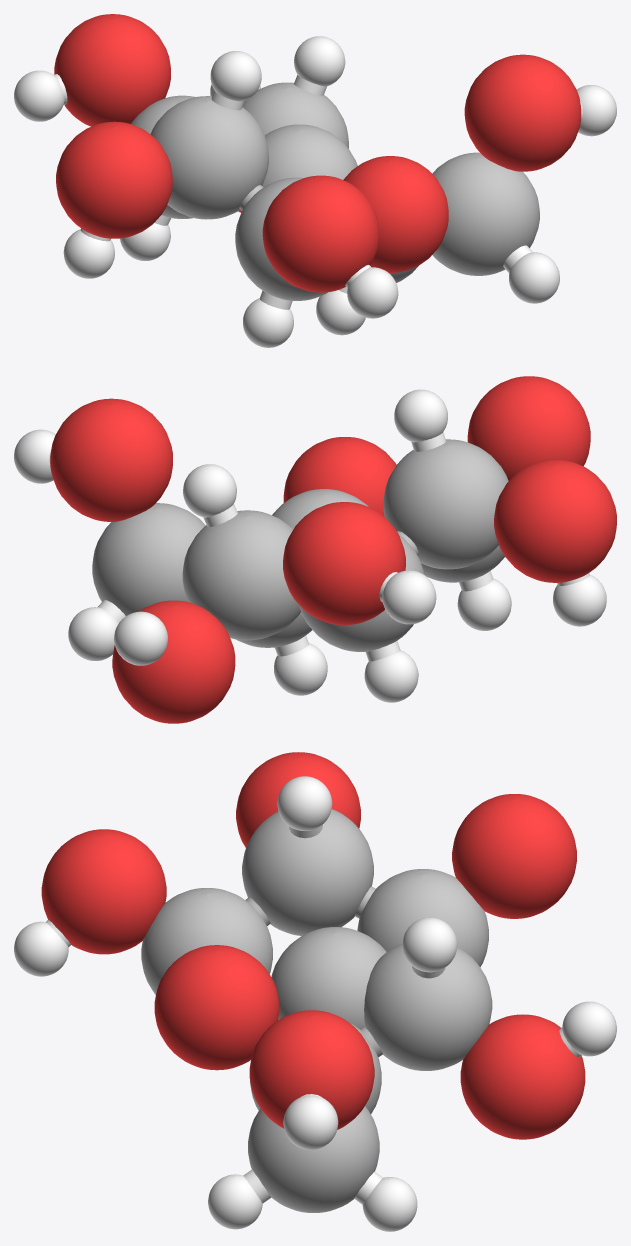
The model's file is glucose.fbx.
3 renders of one model, top to bottom at view 1: azimuth 30°, elevation 25°; view 2: azimuth 150°, elevation 25°; view 3: azimuth 270°, elevation 25°, orthographic. The views are drawn at different scales.
Visible parts, largest first — view 1: Oxygen_mesh|Oxygen_ball|Dupli|5, Oxygen_mesh|Oxygen_ball|Dupli|2, Oxygen_mesh|Oxygen_ball|Dupli|0.4, Oxygen_mesh|Oxygen_ball|Dupli|0.3, Carbon_mesh|Carbon_ball|Dupli|5, Carbon_mesh|Carbon_ball|Dupli|0.3, Oxygen_mesh|Oxygen_ball|Dupli|, Oxygen_mesh|Oxygen_ball|Dupli|3, Carbon_mesh|Carbon_ball|Dupli|3, Carbon_mesh|Carbon_ball|Dupli|0.5, Oxygen_mesh|Oxygen_ball|Dupli|4, Carbon_ball (+15 smaller); view 2: Oxygen_mesh|Oxygen_ball|Dupli|5, Carbon_mesh|Carbon_ball|Dupli|, Oxygen_mesh|Oxygen_ball|Dupli|0.2, Oxygen_mesh|Oxygen_ball|Dupli|0.3, Carbon_mesh|Carbon_ball|Dupli|0.3, Oxygen_mesh|Oxygen_ball|Dupli|4, Carbon_mesh|Carbon_ball|Dupli|5, Carbon_mesh|Carbon_ball|Dupli|3, Oxygen_mesh|Oxygen_ball|Dupli|3, Oxygen_mesh|Oxygen_ball|Dupli|0.1, Oxygen_mesh|Oxygen_ball|Dupli|1, Oxygen_mesh|Oxygen_ball|Dupli|2 (+19 smaller); view 3: Oxygen_mesh|Oxygen_ball|Dupli|, Carbon_mesh|Carbon_ball|Dupli|, Oxygen_mesh|Oxygen_ball|Dupli|4, Oxygen_mesh|Oxygen_ball|Dupli|1, Oxygen_mesh|Oxygen_ball|Dupli|2, Carbon_mesh|Carbon_ball|Dupli|3, Oxygen_mesh|Oxygen_ball|Dupli|0.5, Carbon_ball, Carbon_mesh|Carbon_ball|Dupli|0.5, Carbon_mesh|Carbon_ball|Dupli|4, Carbon_mesh|Carbon_ball|Dupli|1, Carbon_mesh|Carbon_ball|Dupli|5 (+16 smaller).
Boxes of the visible parts, box(x1,y1,x2,y2) form: Oxygen_mesh|Oxygen_ball|Dupli|5: box(464, 54, 581, 171); Oxygen_mesh|Oxygen_ball|Dupli|2: box(54, 14, 170, 126); Oxygen_mesh|Oxygen_ball|Dupli|0.4: box(262, 176, 379, 292); Oxygen_mesh|Oxygen_ball|Dupli|0.3: box(56, 122, 171, 238); Carbon_mesh|Carbon_ball|Dupli|5: box(432, 152, 538, 275); Carbon_mesh|Carbon_ball|Dupli|0.3: box(150, 96, 268, 219); Oxygen_mesh|Oxygen_ball|Dupli|: box(343, 156, 448, 272); Oxygen_mesh|Oxygen_ball|Dupli|3: box(56, 121, 172, 238); Carbon_mesh|Carbon_ball|Dupli|3: box(151, 96, 268, 218); Carbon_mesh|Carbon_ball|Dupli|0.5: box(432, 154, 539, 275); Oxygen_mesh|Oxygen_ball|Dupli|4: box(263, 175, 377, 292); Carbon_ball: box(262, 124, 357, 187); Oxygen_mesh|Oxygen_ball|Dupli|5: box(50, 398, 172, 521); Carbon_mesh|Carbon_ball|Dupli|: box(182, 510, 300, 640); Oxygen_mesh|Oxygen_ball|Dupli|0.2: box(283, 502, 405, 624); Oxygen_mesh|Oxygen_ball|Dupli|0.3: box(494, 460, 616, 581); Carbon_mesh|Carbon_ball|Dupli|0.3: box(385, 439, 508, 569); Oxygen_mesh|Oxygen_ball|Dupli|4: box(467, 376, 589, 480); Carbon_mesh|Carbon_ball|Dupli|5: box(92, 503, 203, 615); Carbon_mesh|Carbon_ball|Dupli|3: box(383, 439, 507, 569); Oxygen_mesh|Oxygen_ball|Dupli|3: box(494, 459, 616, 582); Oxygen_mesh|Oxygen_ball|Dupli|0.1: box(115, 600, 234, 723); Oxygen_mesh|Oxygen_ball|Dupli|1: box(112, 600, 235, 723); Oxygen_mesh|Oxygen_ball|Dupli|2: box(283, 502, 405, 625); Oxygen_mesh|Oxygen_ball|Dupli|: box(154, 945, 279, 1070); Carbon_mesh|Carbon_ball|Dupli|: box(364, 944, 492, 1070); Oxygen_mesh|Oxygen_ball|Dupli|4: box(41, 829, 166, 954); Oxygen_mesh|Oxygen_ball|Dupli|1: box(460, 1014, 585, 1139); Oxygen_mesh|Oxygen_ball|Dupli|2: box(452, 794, 576, 918); Carbon_mesh|Carbon_ball|Dupli|3: box(243, 809, 373, 935); Oxygen_mesh|Oxygen_ball|Dupli|0.5: box(249, 1010, 374, 1128); Carbon_ball: box(271, 927, 386, 1029); Carbon_mesh|Carbon_ball|Dupli|0.5: box(248, 1108, 379, 1212); Carbon_mesh|Carbon_ball|Dupli|4: box(141, 888, 272, 991); Carbon_mesh|Carbon_ball|Dupli|1: box(358, 869, 487, 962); Carbon_mesh|Carbon_ball|Dupli|5: box(248, 1106, 379, 1212).
Bounding box in the file's own units: 799 × 426 × 703.
